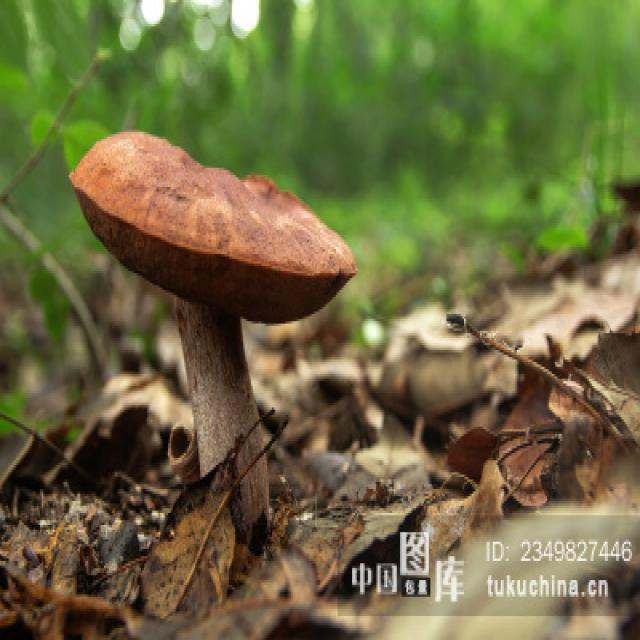Boletus: (69, 134, 356, 546)
